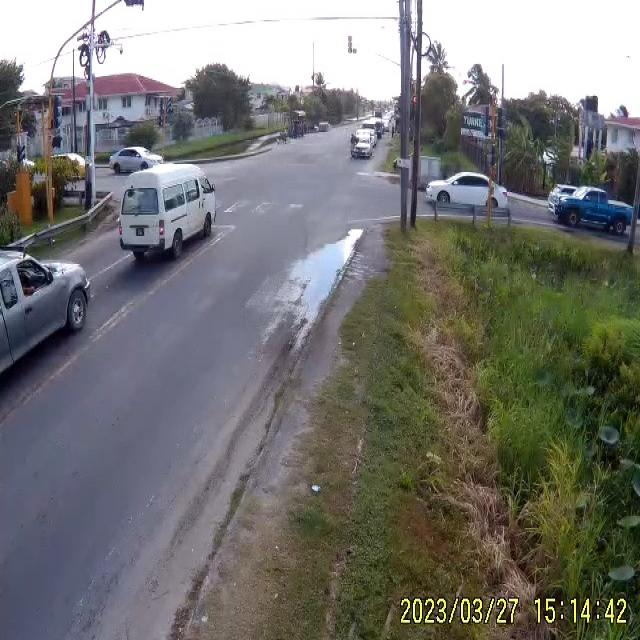car: (118, 167, 216, 260), (552, 187, 638, 236), (425, 172, 508, 209), (108, 147, 164, 173), (549, 185, 580, 215), (351, 130, 377, 159)
